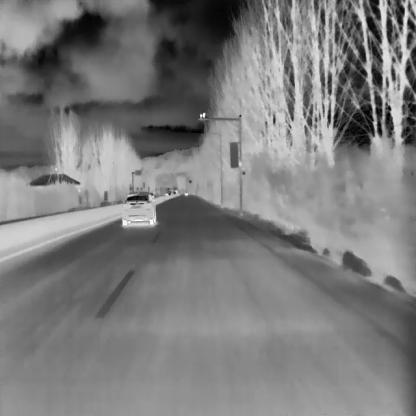car: (122, 192, 156, 225)
